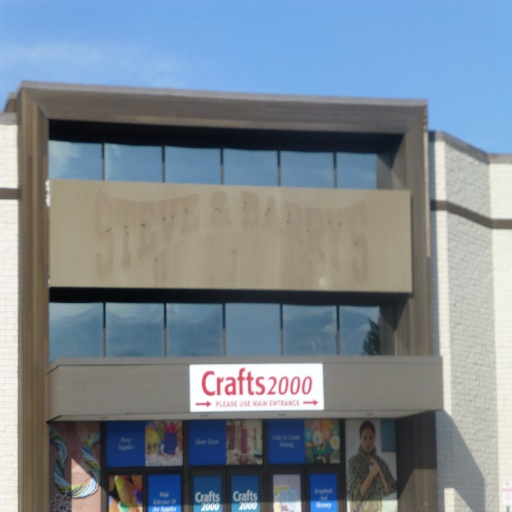hand: (367, 453, 380, 470), (367, 462, 380, 478)
